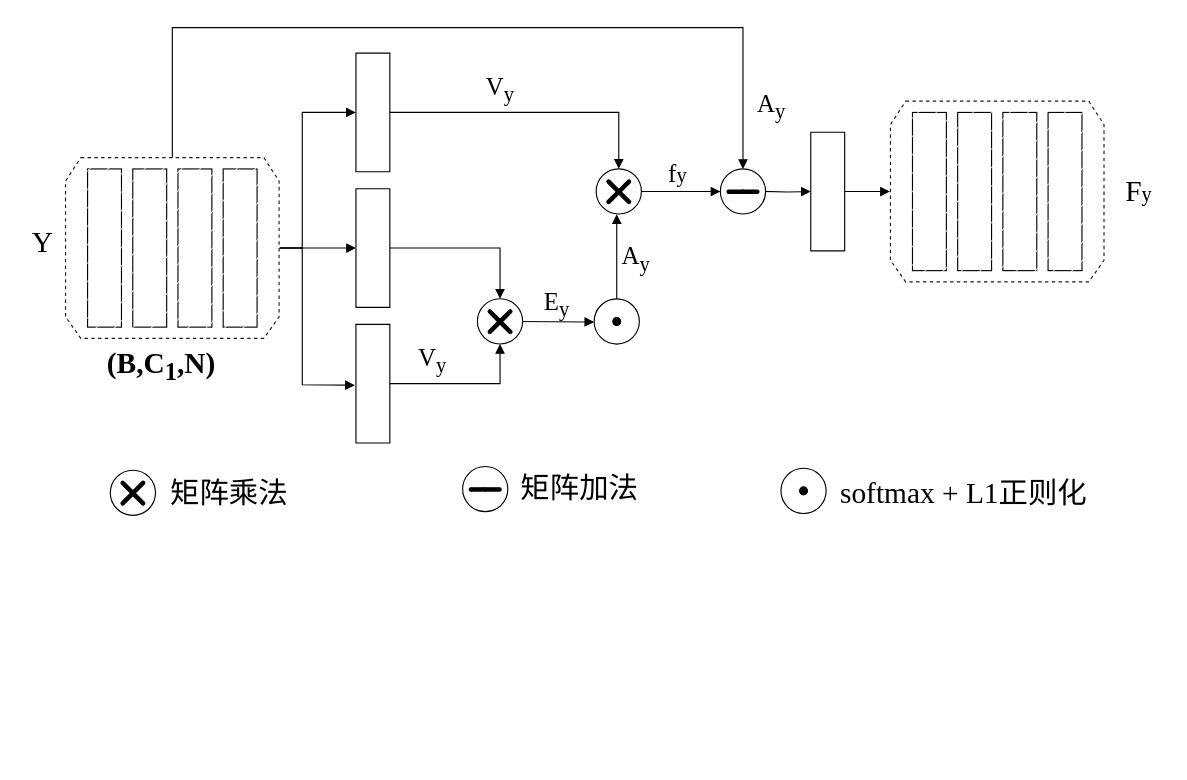
Image size: 1187x780. Some labels were removed from this diagram. Here are the shapes that lost their labels. From the top down, the centre of each, then its label:
At [827,191]: "LBR".
At [372,247]: "Q y".
